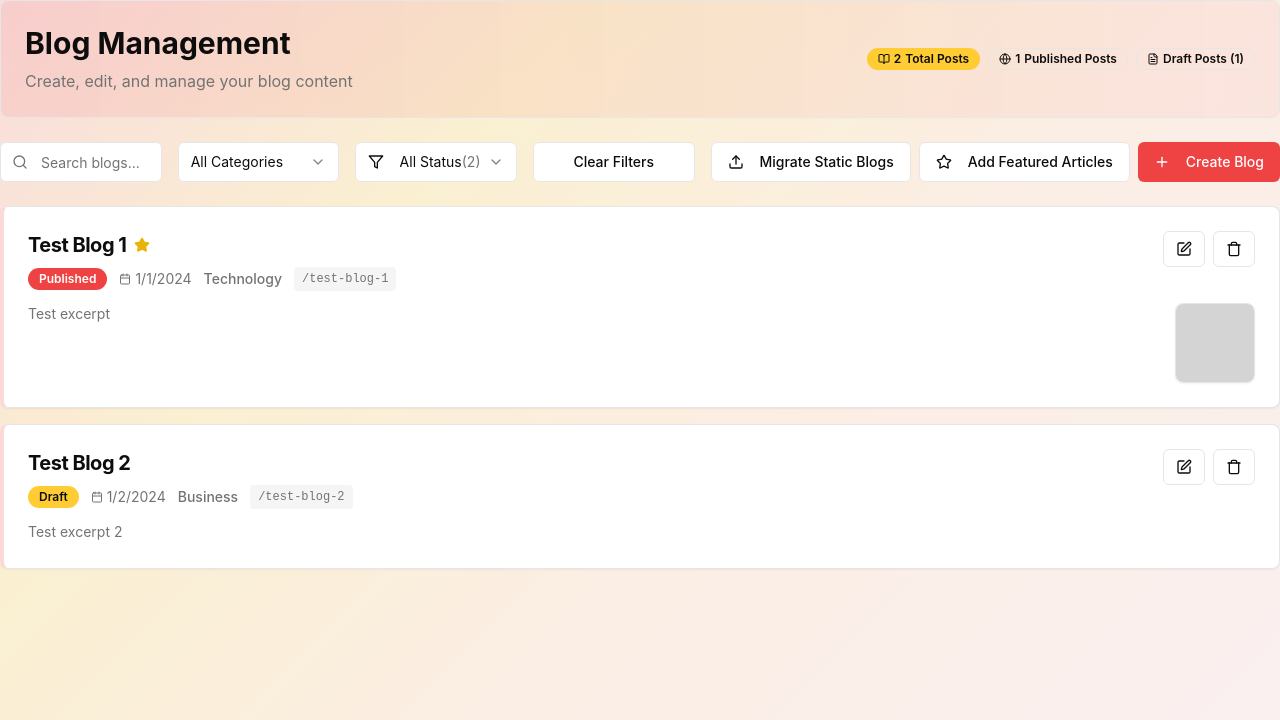
Scenario: BlogManager Component › edits existing blog
Check: the heading "Test Blog 1" is shown, box [28,231,126,259]
# Find and click edit button for first blog
Click the button named "Edit blog" in the row of "Test Blog 1" at (1184, 249), box [1163,231,1205,267]
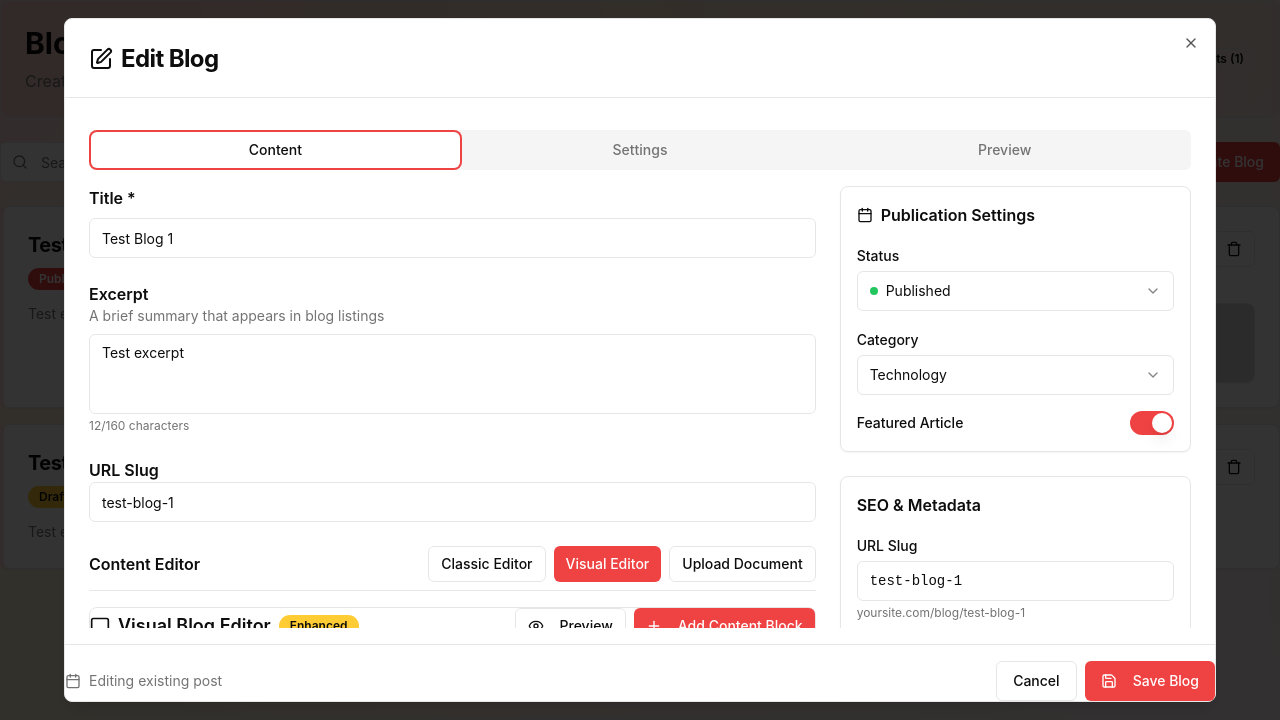
Check: the heading "Edit Blog" is shown, box [89,44,219,73]
